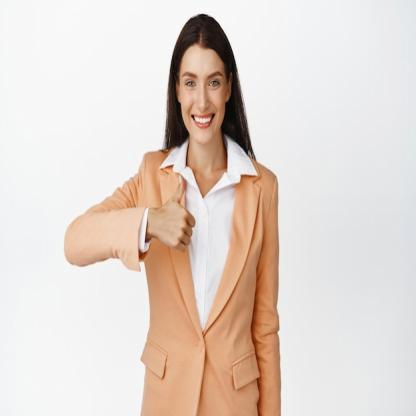thumb_up: (159, 175, 198, 260)
